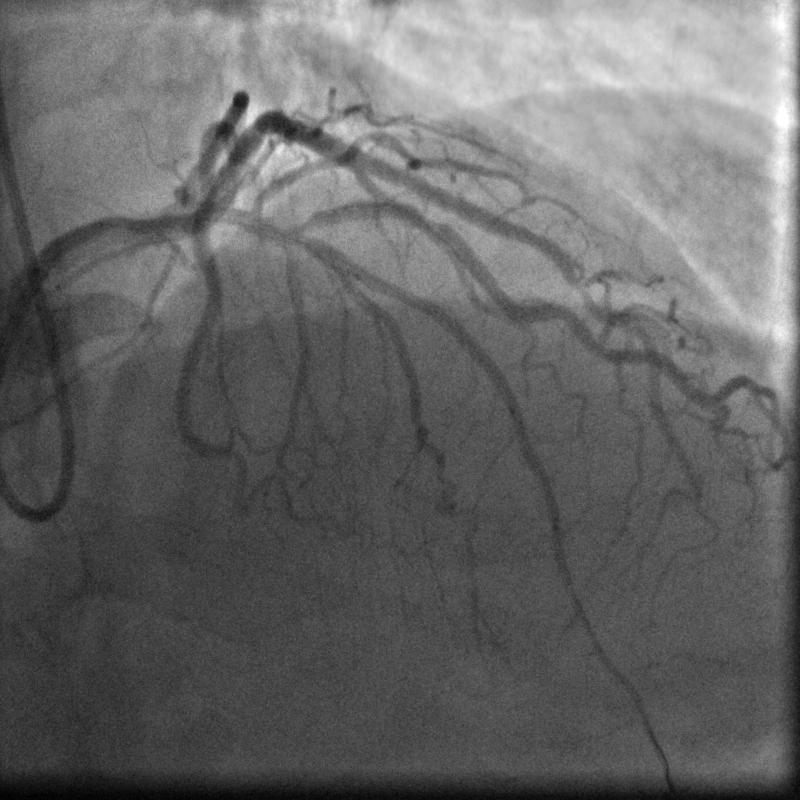Stenosis: (404, 196, 453, 243)
